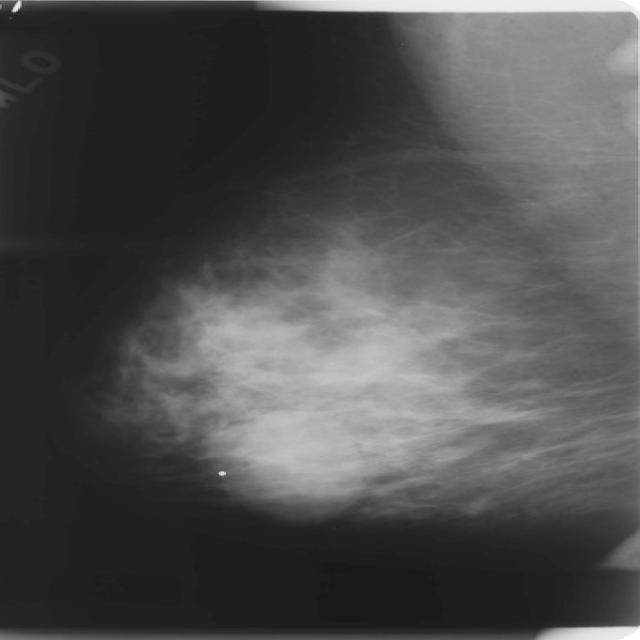tumour: (235, 409, 363, 509)
